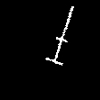double_crochet: (46, 7, 73, 64)
